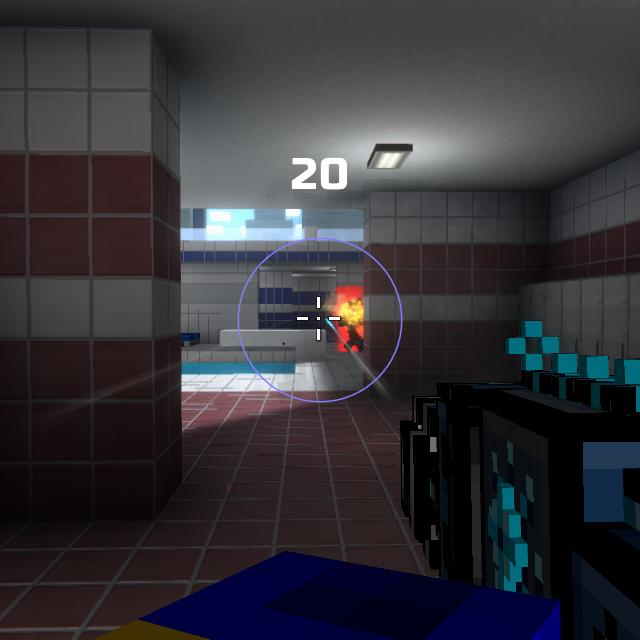Enemy: (338, 301, 364, 352)
